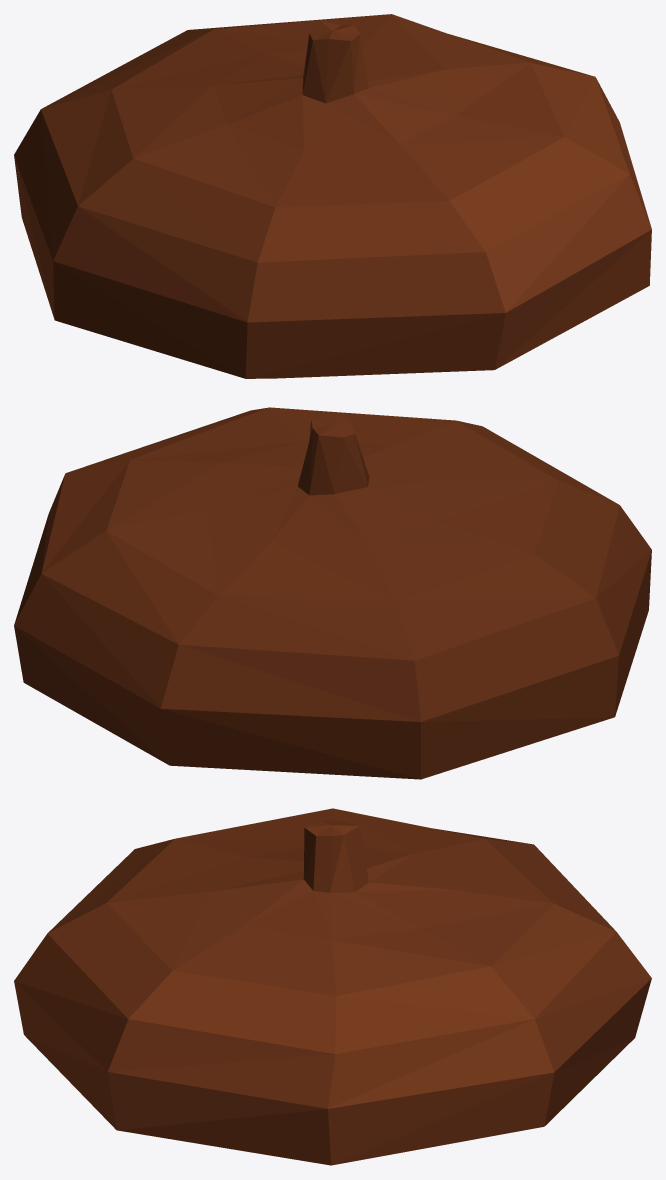
Rendered from Cosmetic_AcornCap.glb.
3 renders of one model, top to bottom at view 1: azimuth 30°, elevation 25°; view 2: azimuth 150°, elevation 25°; view 3: azimuth 270°, elevation 25°, orthographic. The views are drawn at different scales.
Parts seen in each view (by area): view 1: Acorn_Cap; view 2: Acorn_Cap; view 3: Acorn_Cap.
Part boxes in pixels (box(x1,y1,x2,y2)): Acorn_Cap: box(14, 14, 651, 378); Acorn_Cap: box(14, 407, 651, 779); Acorn_Cap: box(14, 808, 651, 1165).
Size of the model in its own units: 1.05 by 0.4293 by 1.08.
